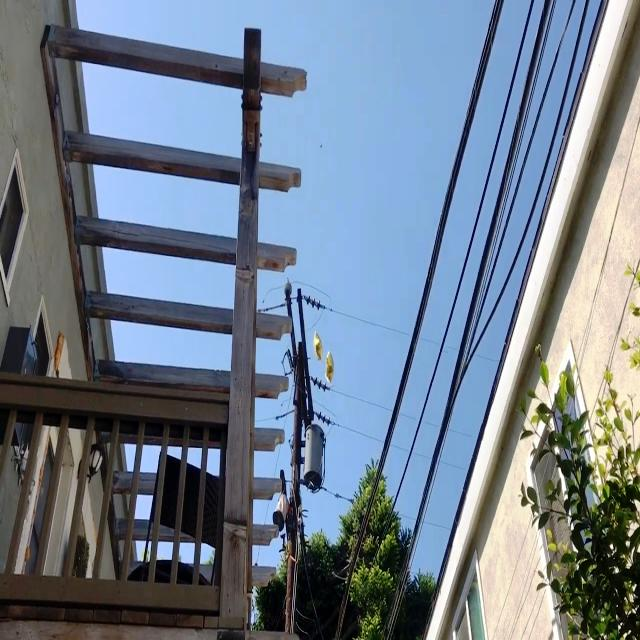obstruction: (325, 351, 334, 382), (314, 332, 322, 360)
poles: (262, 282, 326, 632)
wires: (302, 290, 410, 335), (310, 375, 390, 411), (314, 400, 380, 442), (320, 484, 354, 503), (471, 350, 498, 363), (260, 298, 285, 311), (441, 460, 467, 469), (424, 520, 450, 529), (420, 337, 440, 347), (392, 444, 410, 455), (413, 450, 430, 460), (423, 419, 440, 428), (395, 510, 412, 519), (400, 412, 419, 420), (450, 430, 472, 436), (444, 345, 459, 353)
